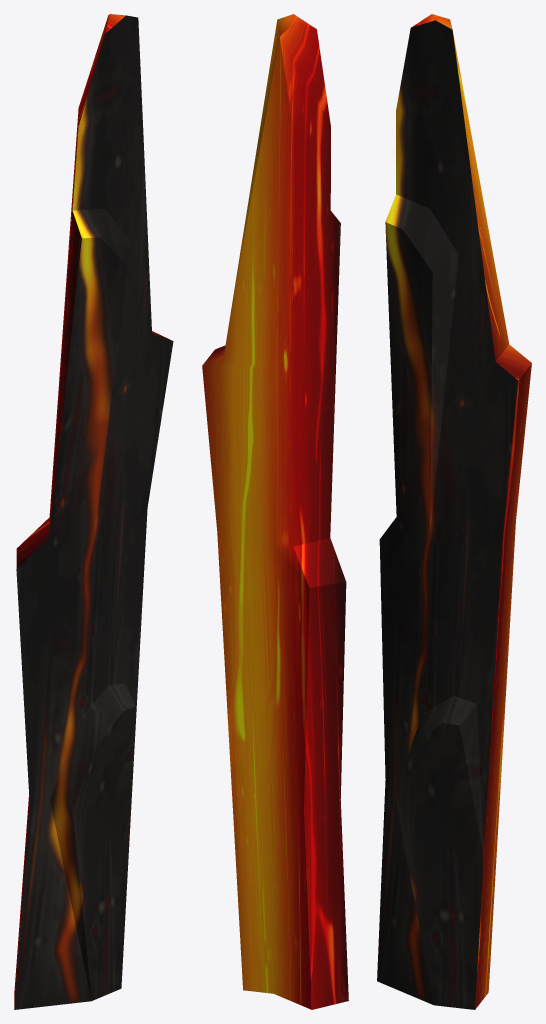
The model's file is p_mesh_hvs_burntforest_bark_part01.fbx.
3 views of the same model, side by side, from view 1: azimuth 30°, elevation 25°; view 2: azimuth 150°, elevation 25°; view 3: azimuth 330°, elevation 25° (orthographic). The views are drawn at different scales.
Parts seen in each view (by area): view 1: p_mesh_hvs_burntforest_bark_part01; view 2: p_mesh_hvs_burntforest_bark_part01; view 3: p_mesh_hvs_burntforest_bark_part01.
Boxes of the visible parts, x1,y1,x2,y2 form: p_mesh_hvs_burntforest_bark_part01: [14, 14, 173, 1009]; p_mesh_hvs_burntforest_bark_part01: [202, 14, 348, 1009]; p_mesh_hvs_burntforest_bark_part01: [377, 14, 531, 1009].
Size of the model in its own units: 1.38 by 8.76 by 0.792.
Materials: 1 (1 with a texture image).
